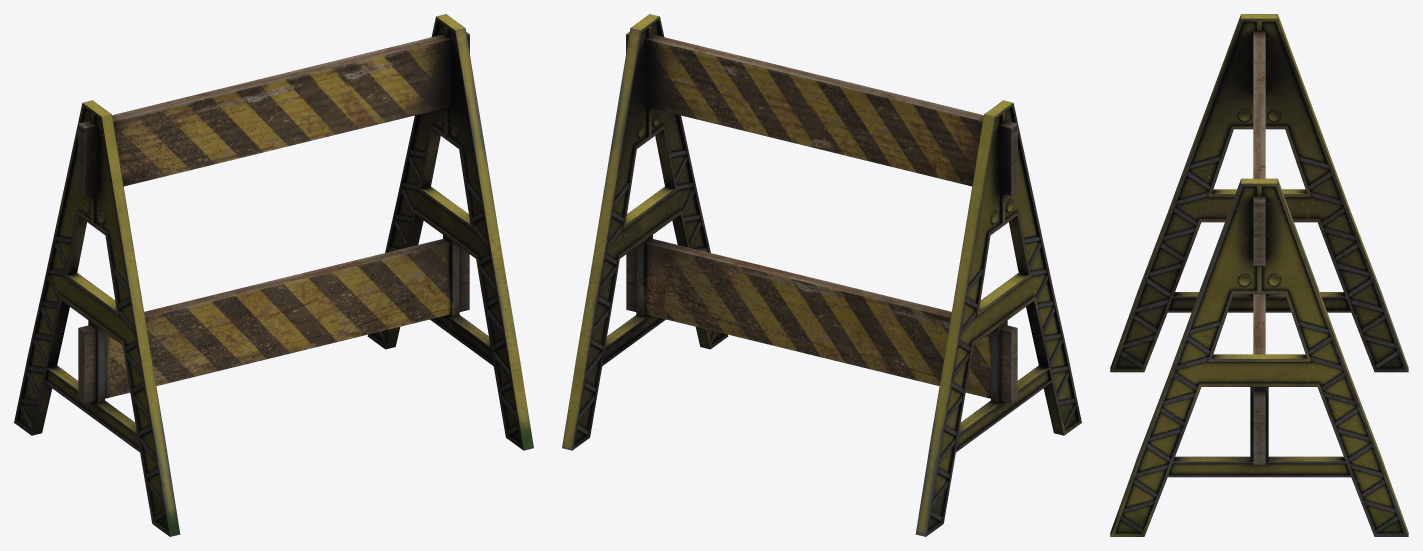
The model's file is RoadBlock.fbx.
The picture shows the model from 3 angles, left to right: view 1: azimuth 30°, elevation 25°; view 2: azimuth 150°, elevation 25°; view 3: azimuth 270°, elevation 25°; orthographic projection. The views are drawn at different scales.
Visible parts, largest first — view 1: RoadBlock_LOD0; view 2: RoadBlock_LOD0; view 3: RoadBlock_LOD0.
Boxes of the visible parts, <box> form: RoadBlock_LOD0: <box>14,14,533,536</box>; RoadBlock_LOD0: <box>562,14,1081,536</box>; RoadBlock_LOD0: <box>1110,14,1408,536</box>.
Size of what is drawn, in the model's own units: 1.26 by 1.16 by 0.8855.
